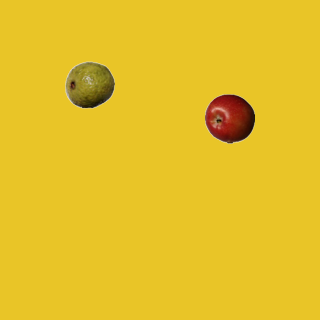Apple Braeburn: (204, 93, 254, 143)
Guava: (64, 59, 114, 109)
